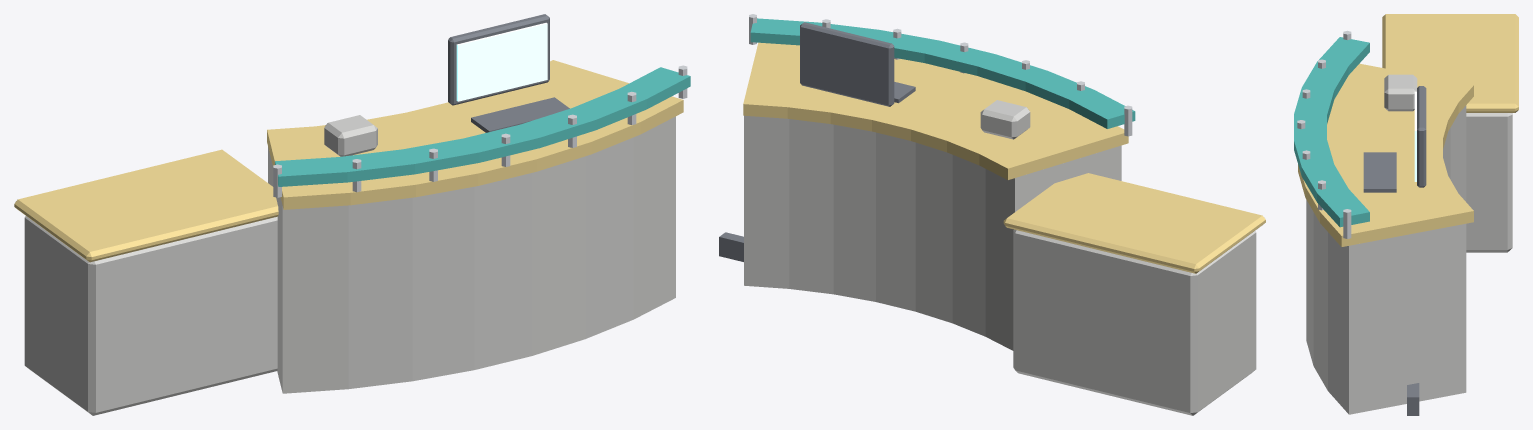
3 views of the same model, side by side, from view 1: azimuth 30°, elevation 25°; view 2: azimuth 150°, elevation 25°; view 3: azimuth 270°, elevation 25° (orthographic). The views are drawn at different scales.
Parts seen in each view (by area): view 1: reception-desk; view 2: reception-desk; view 3: reception-desk.
Boxes of the visible parts, x1,y1,x2,y2 form: reception-desk: (14,14,690,415); reception-desk: (719,14,1265,415); reception-desk: (1294,14,1518,415).
Size of the model in its own units: 2.91 by 1.32 by 1.09.
